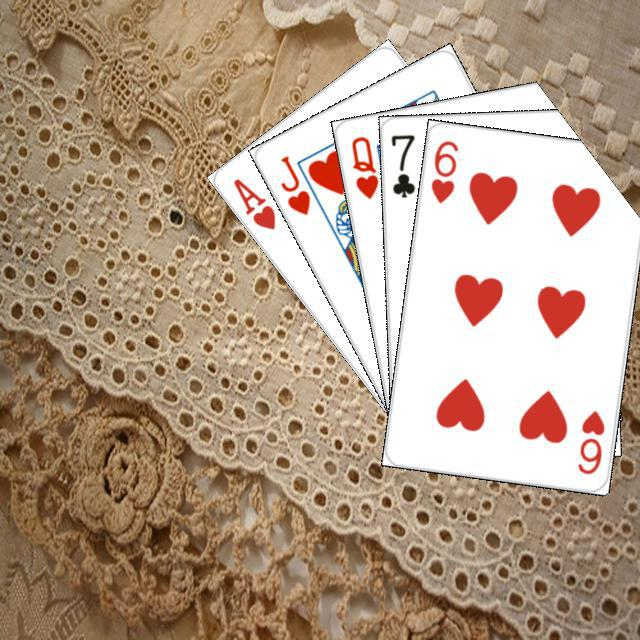6h: (573, 405, 607, 477), (426, 135, 460, 205)
7c: (386, 129, 417, 200)
Ah: (228, 173, 278, 232)
Jh: (275, 150, 312, 217)
Qh: (346, 131, 381, 201)
